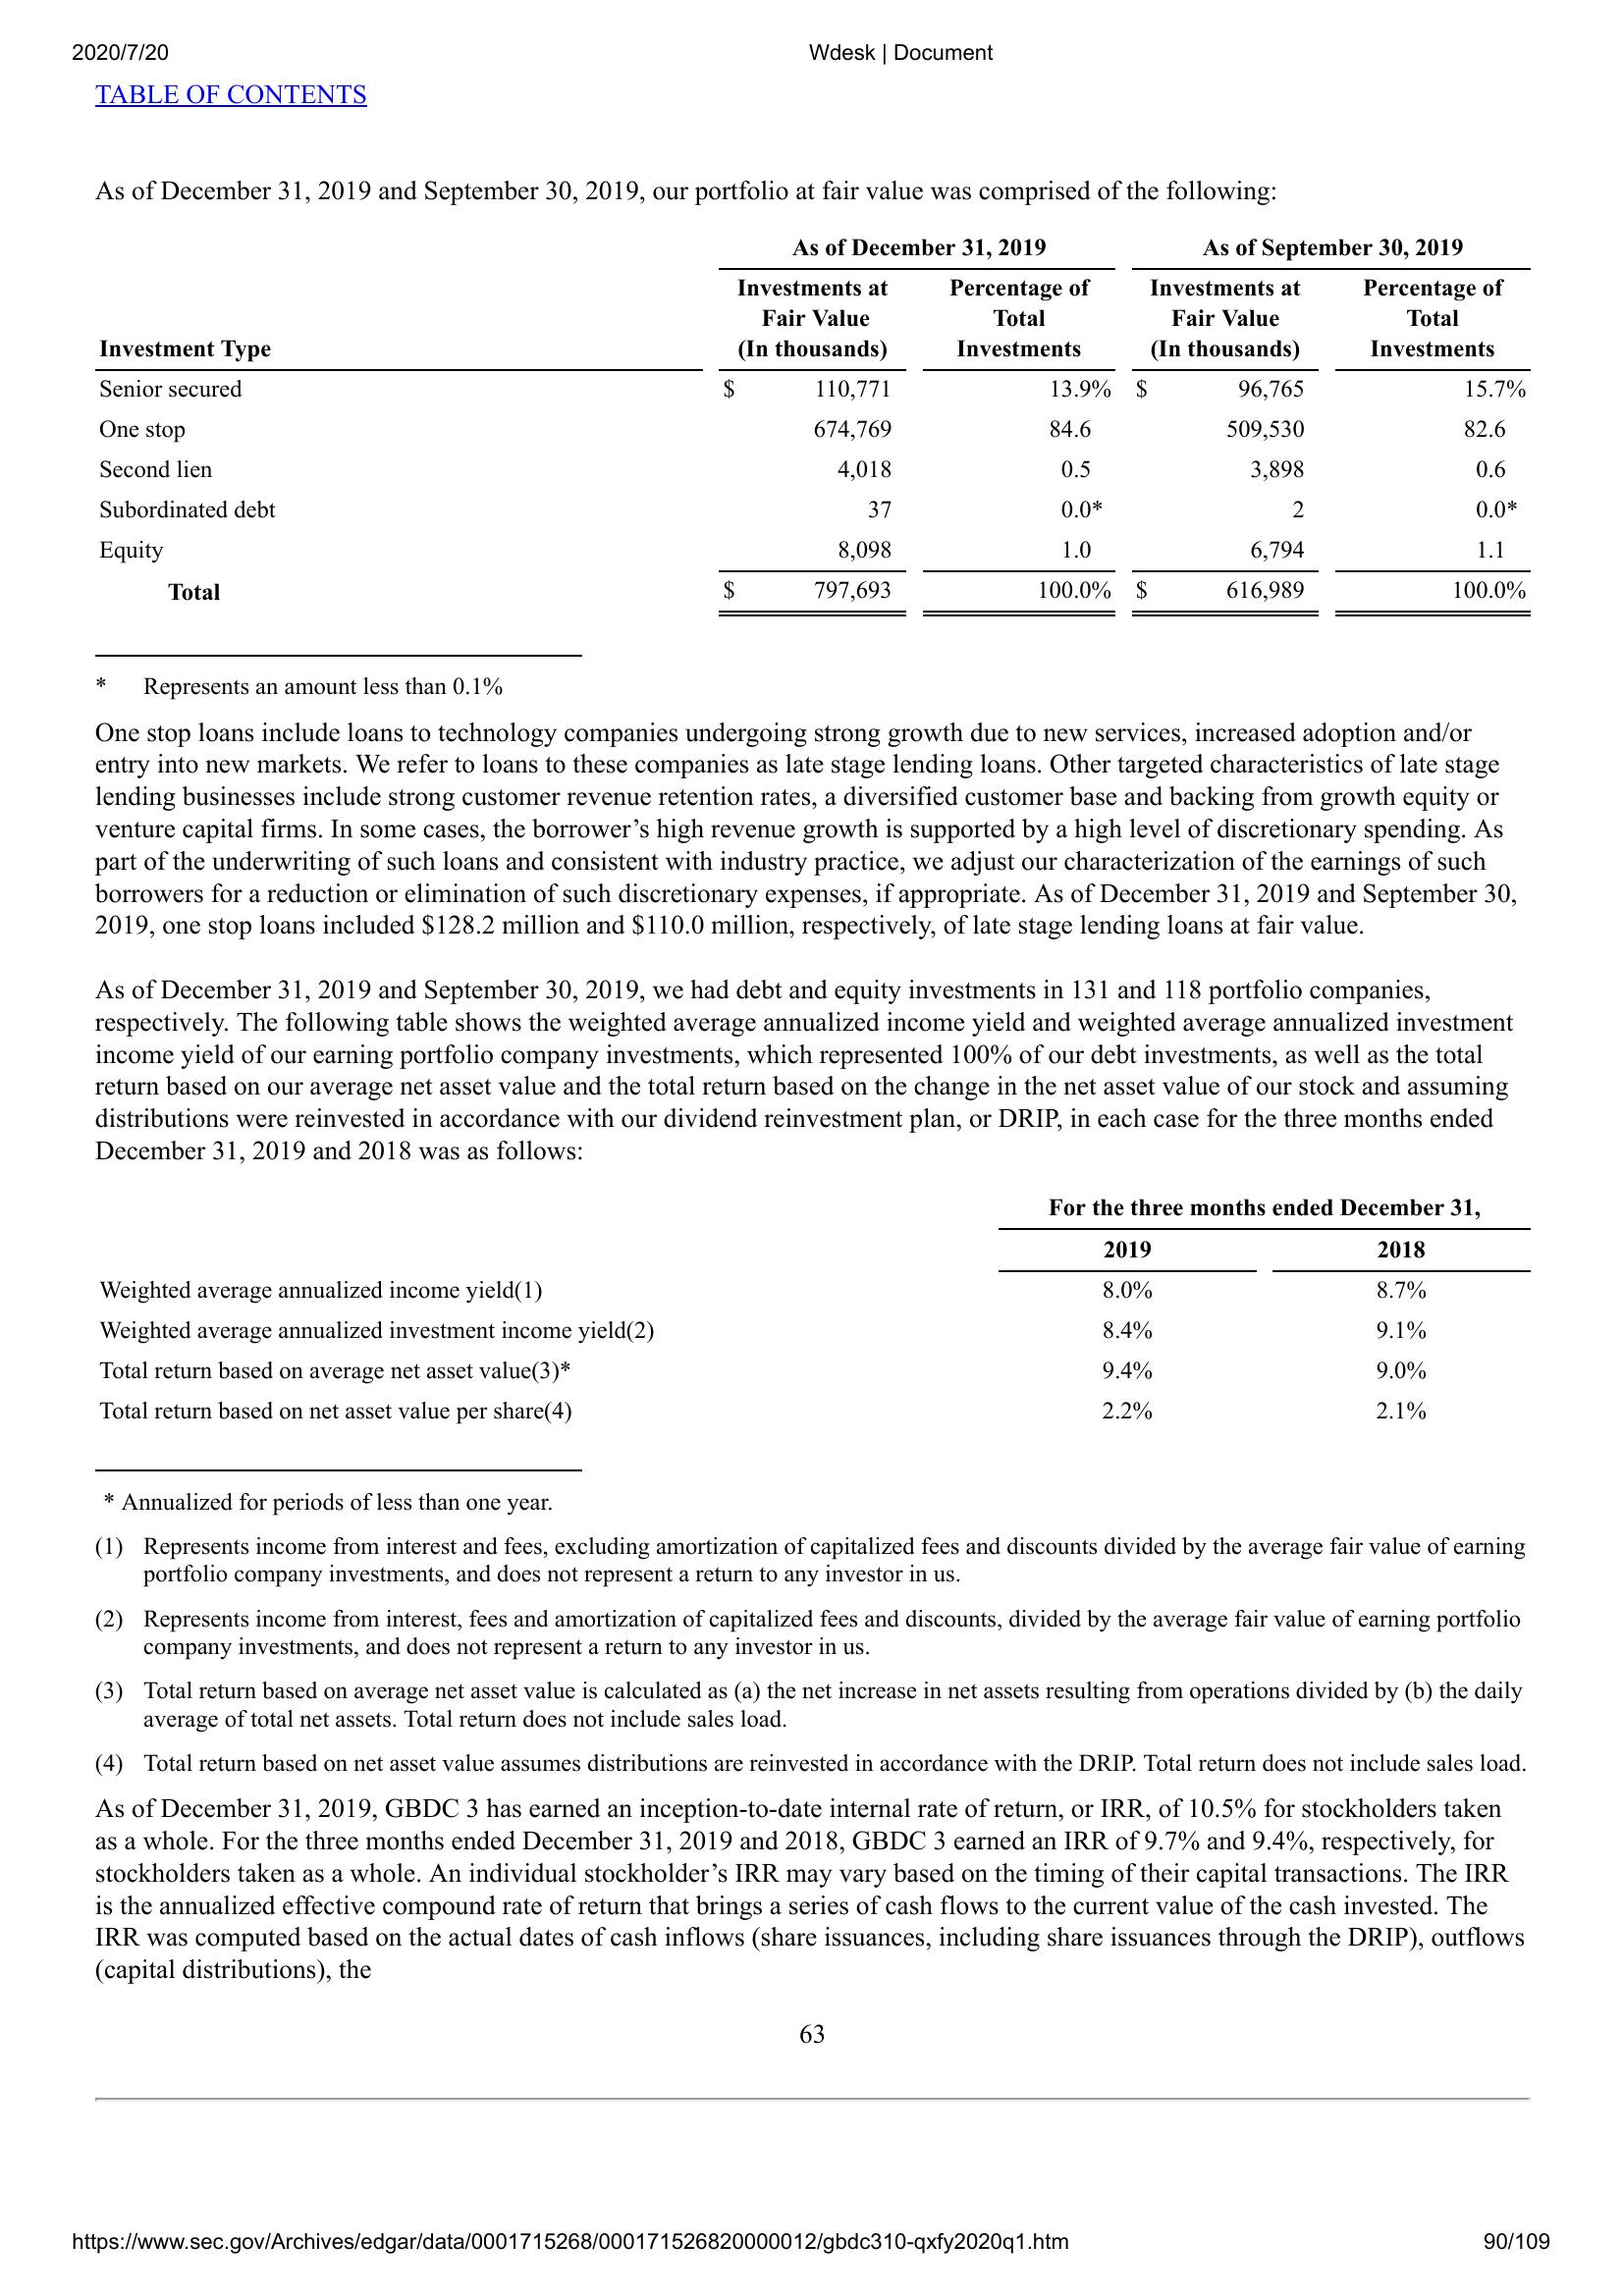table: (83, 226, 1542, 627), (97, 1192, 1528, 1432)
